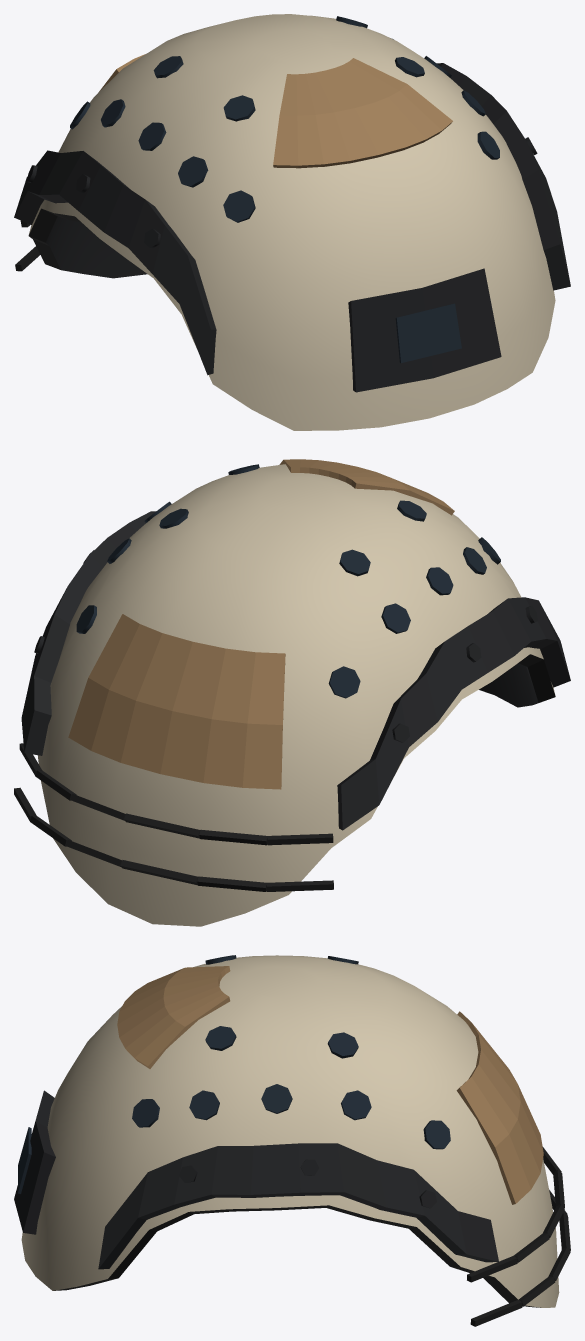
Rendered from helmet.glb.
3 views of the same model, one above another, from view 1: azimuth 30°, elevation 25°; view 2: azimuth 150°, elevation 25°; view 3: azimuth 270°, elevation 25° (orthographic). The views are drawn at different scales.
Parts seen in each view (by area): view 1: helmet; view 2: helmet; view 3: helmet.
Part boxes in pixels (x1=…): helmet: x1=14, y1=14, x2=570, y2=430; helmet: x1=14, y1=459, x2=570, y2=926; helmet: x1=14, y1=955, x2=570, y2=1326.
Size of the model in its own units: 0.2166 by 0.1657 by 0.2684.
1 material, 1 textured.
